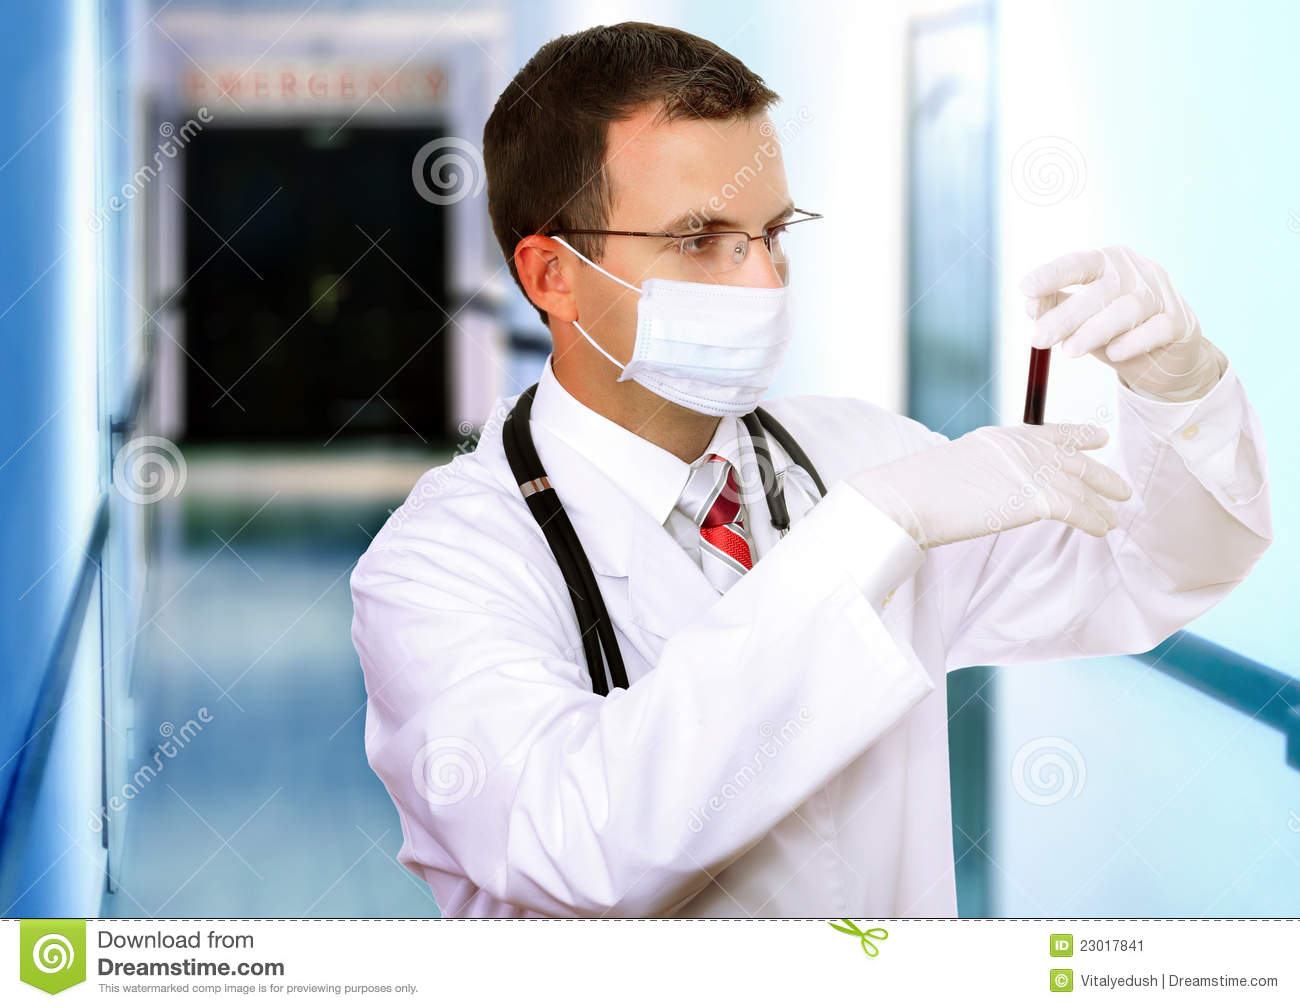mask: (611, 261, 808, 408)
